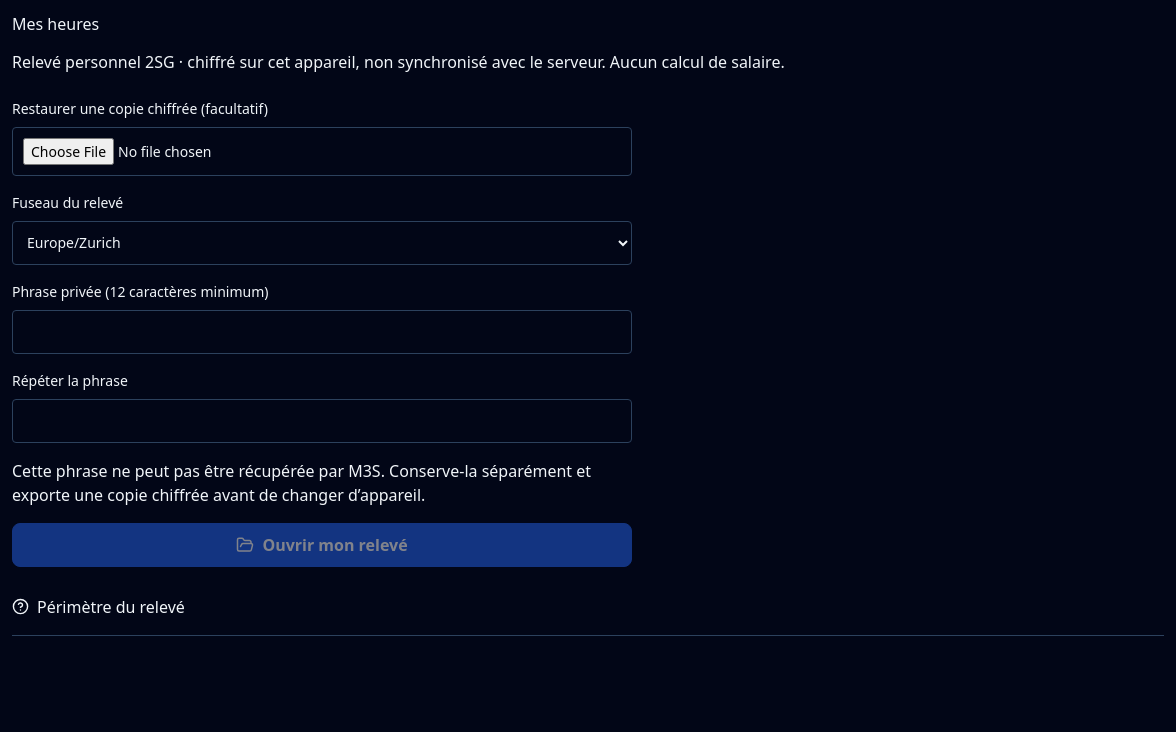
Test: other-tab changes refuse overwrite and backup uses this account memory, not the changed copy
Type "synthetic private hours" into the password field labelled "Phrase privée (12 caractères minimum)" at (322, 332), box [12,310,632,354]
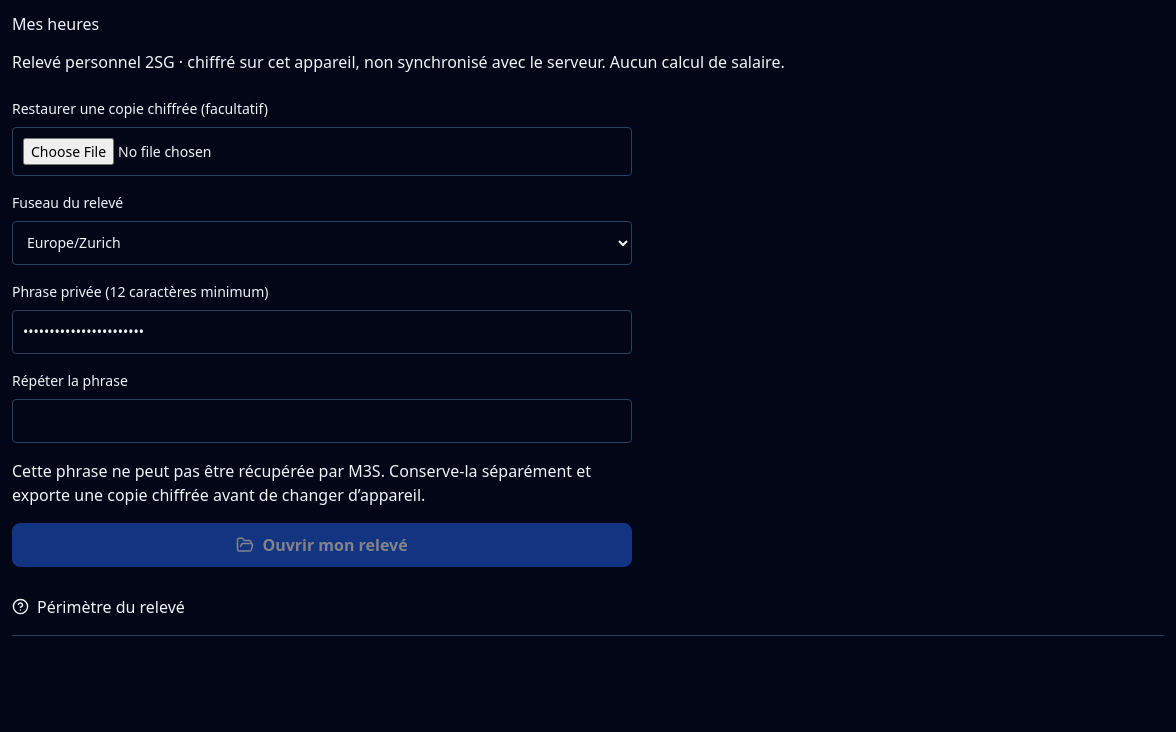
Type "synthetic private hours" into the password field labelled "Répéter la phrase" at (322, 421), box [12,399,632,443]
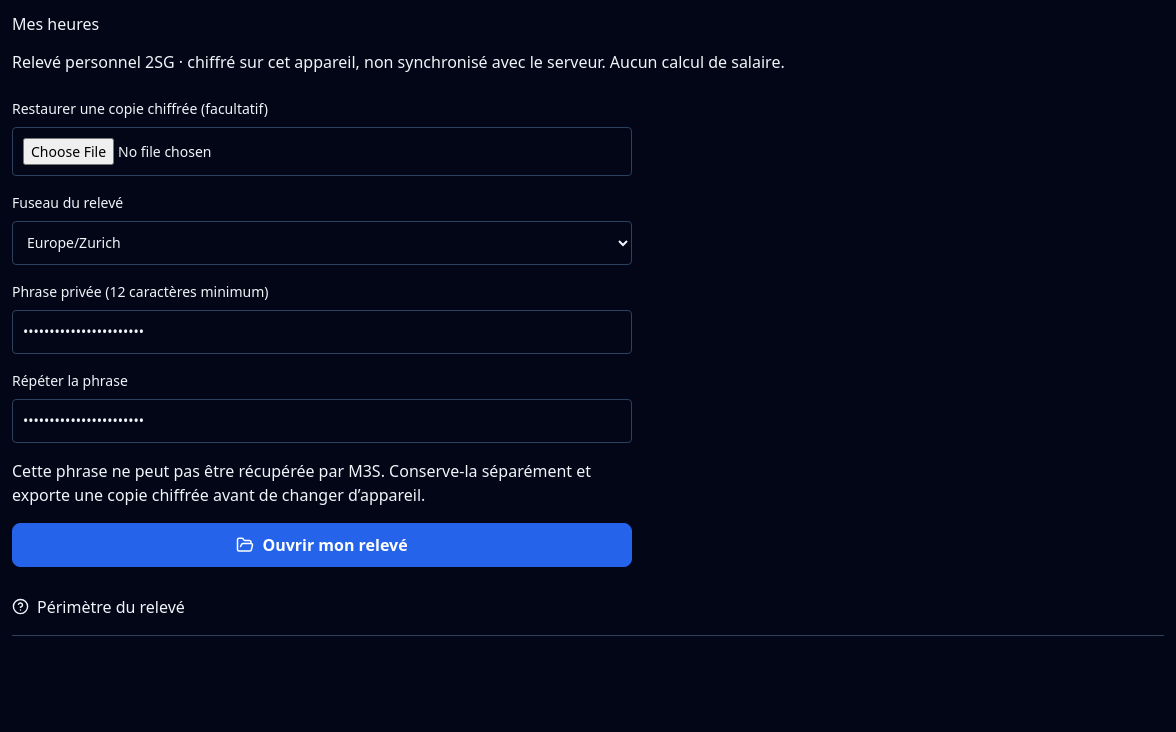
Click the button "Ouvrir mon relevé" at (322, 545), box [12,523,632,567]
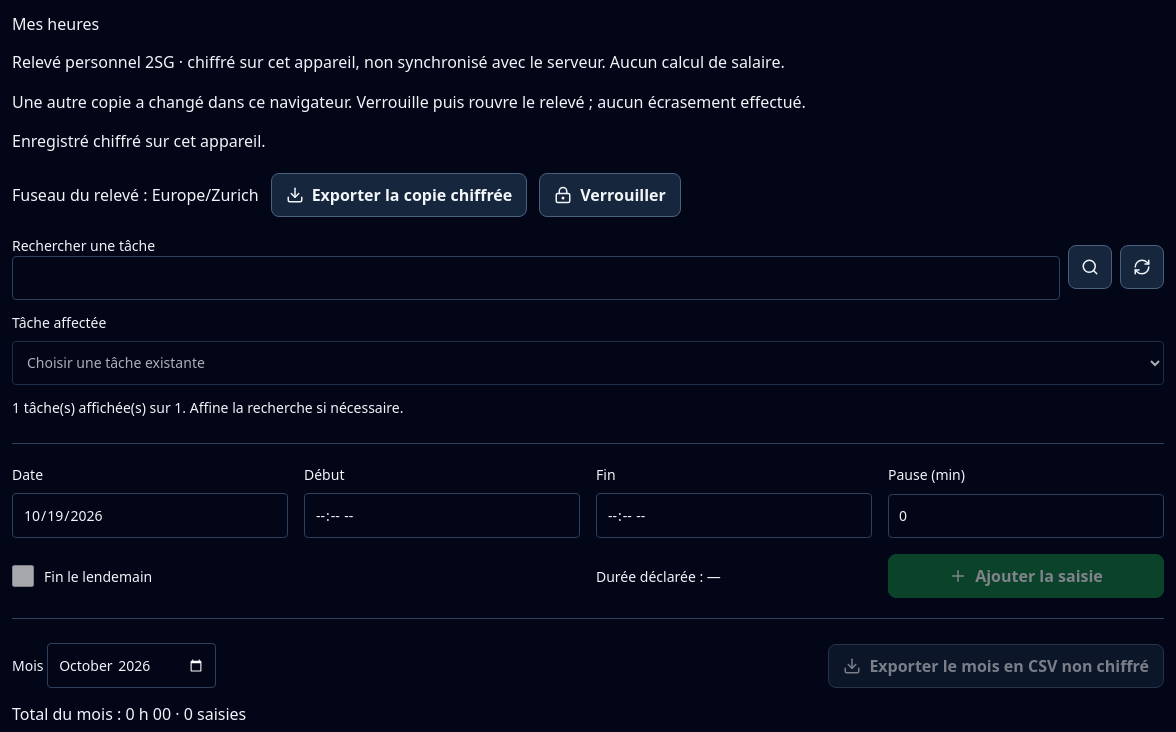
expect the button "Verrouiller" is shown: met, box [539,173,681,217]
expect the dropdown labelled "Tâche affectée" is shown: met, box [12,341,1164,385]
expect the 1st message shows "Une autre copie a changé dans ce navigateur. Verrouille puis rouvre le relevé ; aucun écrasement effectué.": met, box [12,91,806,113]
Click the button "Exporter la copie chiffrée" at (399, 195), box [271,173,527,217]
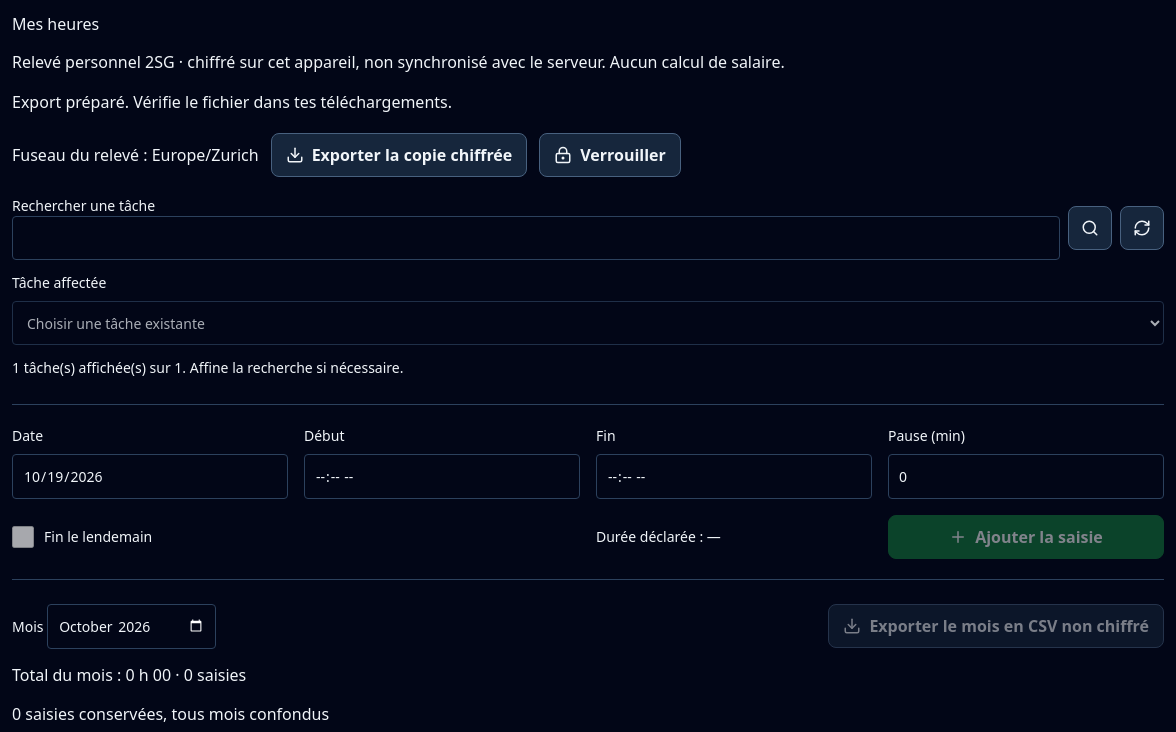
expect the text "Export préparé. Vérifie le fichier dans tes téléchargements." is shown: met, box [12,91,452,113]
